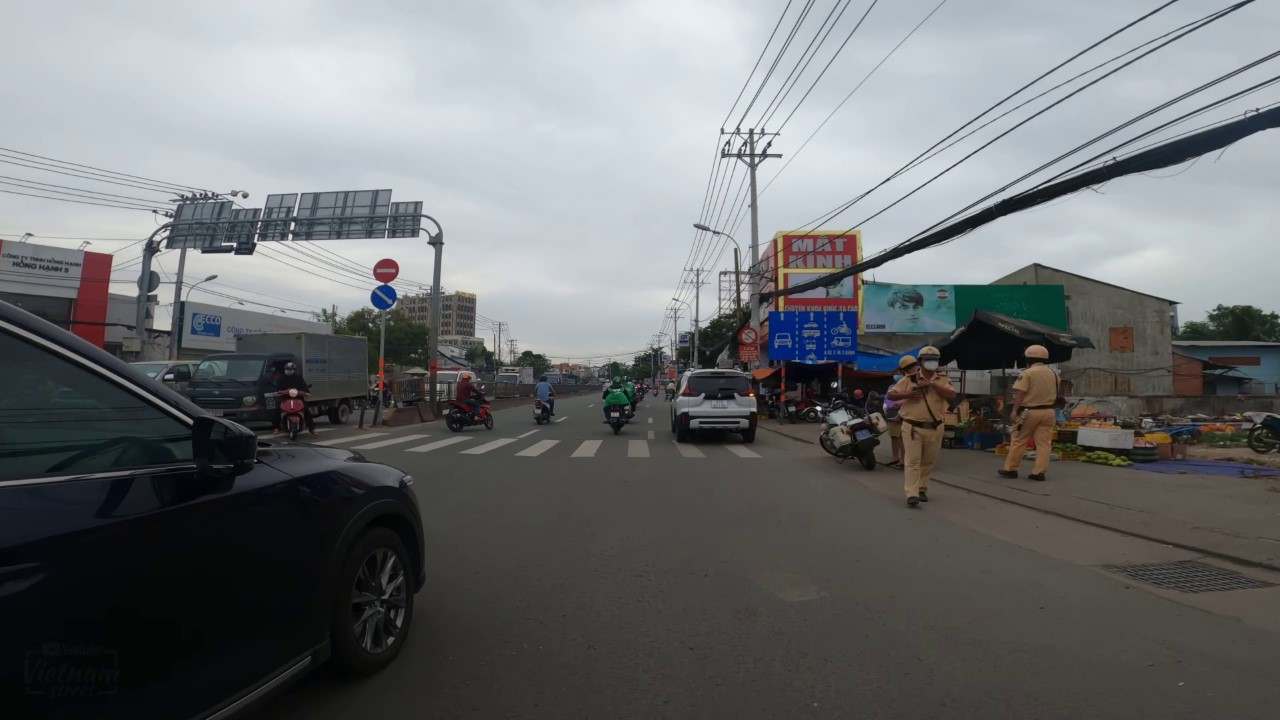cam_nguoc_chieu: (372, 257, 401, 285)
huong_phai_di_vong: (368, 283, 398, 312)
